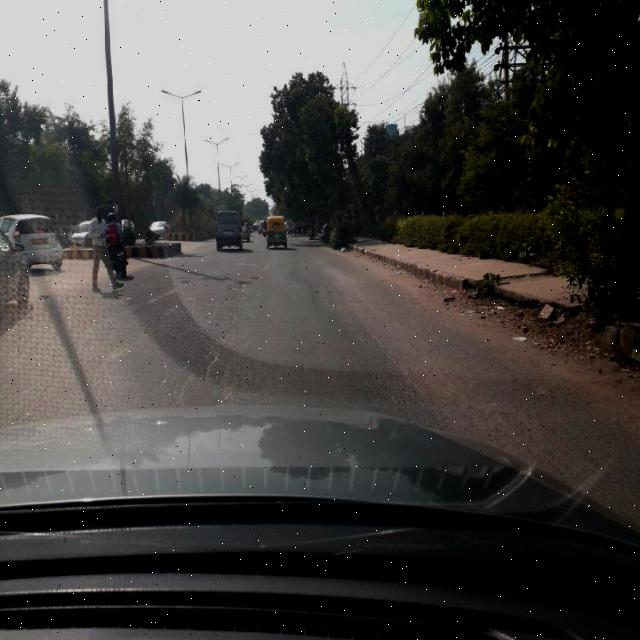D00: (175, 293, 248, 402)
